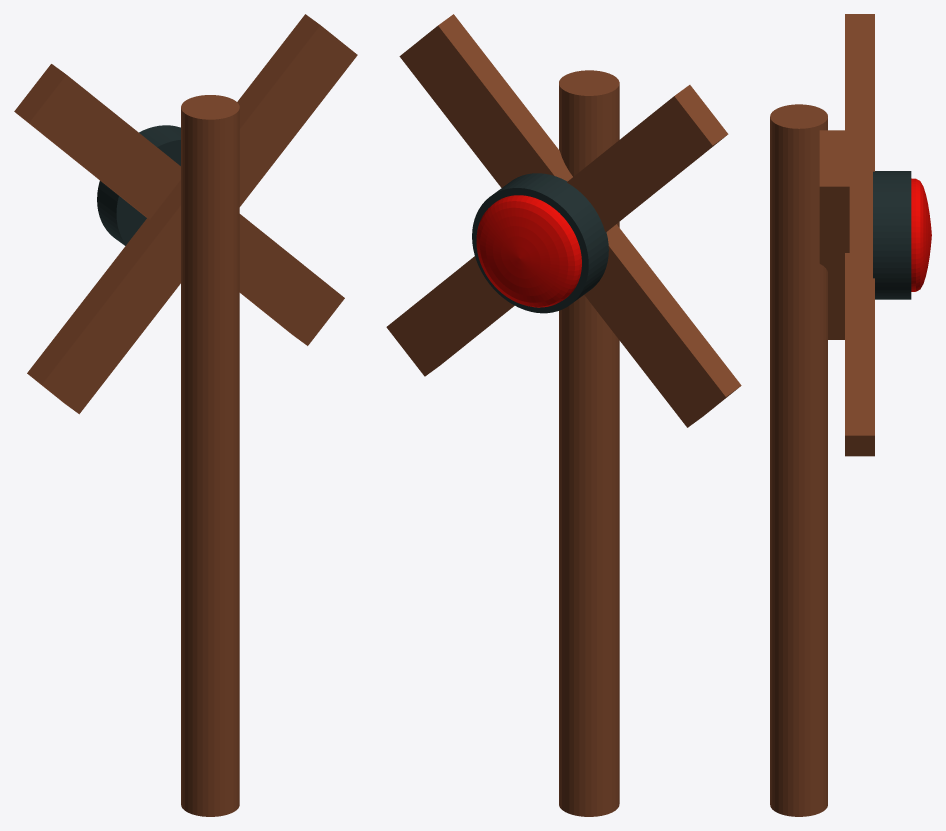
File: railbutton.gltf
The picture shows the model from 3 angles, left to right: view 1: azimuth 30°, elevation 25°; view 2: azimuth 150°, elevation 25°; view 3: azimuth 270°, elevation 25°; orthographic projection. The views are drawn at different scales.
Visible parts, largest first — view 1: Sign; view 2: Sign; view 3: Sign.
Boxes of the visible parts, x1=… form: Sign: x1=14, y1=14, x2=357, y2=816; Sign: x1=386, y1=14, x2=741, y2=816; Sign: x1=770, y1=14, x2=931, y2=816.
Size of the model in its own units: 1.6 by 3.6 by 0.7212.
